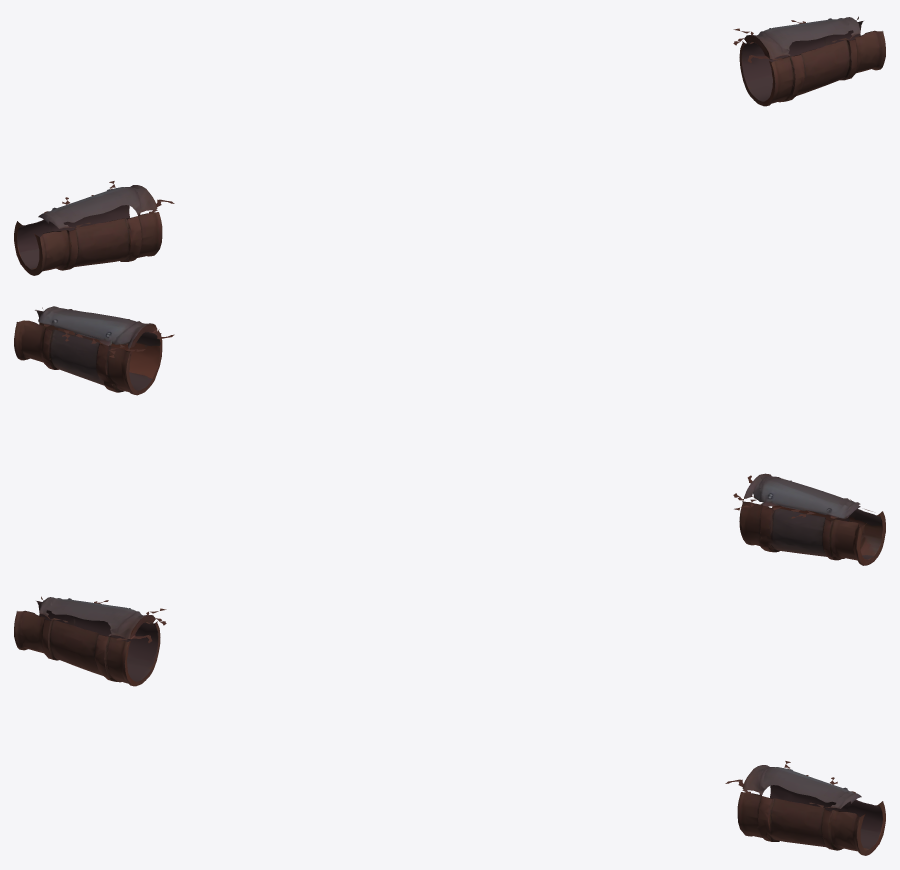
The model's file is warrior_m_bracers.glb.
The picture shows the model from 3 angles, top to bottom: view 1: azimuth 30°, elevation 25°; view 2: azimuth 150°, elevation 25°; view 3: azimuth 330°, elevation 25°; orthographic projection.
Visible parts, largest first — view 1: world; view 2: world; view 3: world.
Part boxes in pixels (x1,y1,x2,y2): world: (14,16,885,275); world: (14,306,885,565); world: (14,596,885,855).
Size of the model in its own units: 1.38 by 0.1068 by 0.1269.
1 material, 1 textured.
